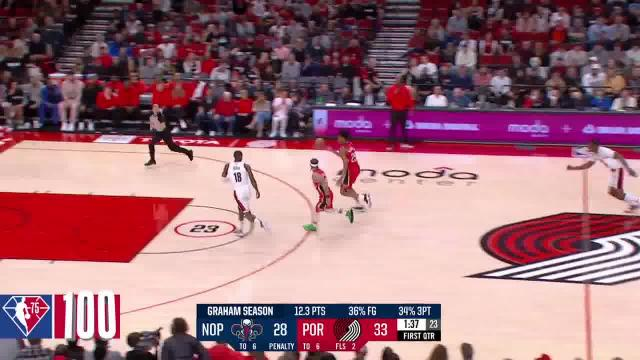ball-handler: (316, 131, 372, 212)
player: (565, 136, 640, 215), (298, 156, 356, 237), (220, 148, 267, 234)
